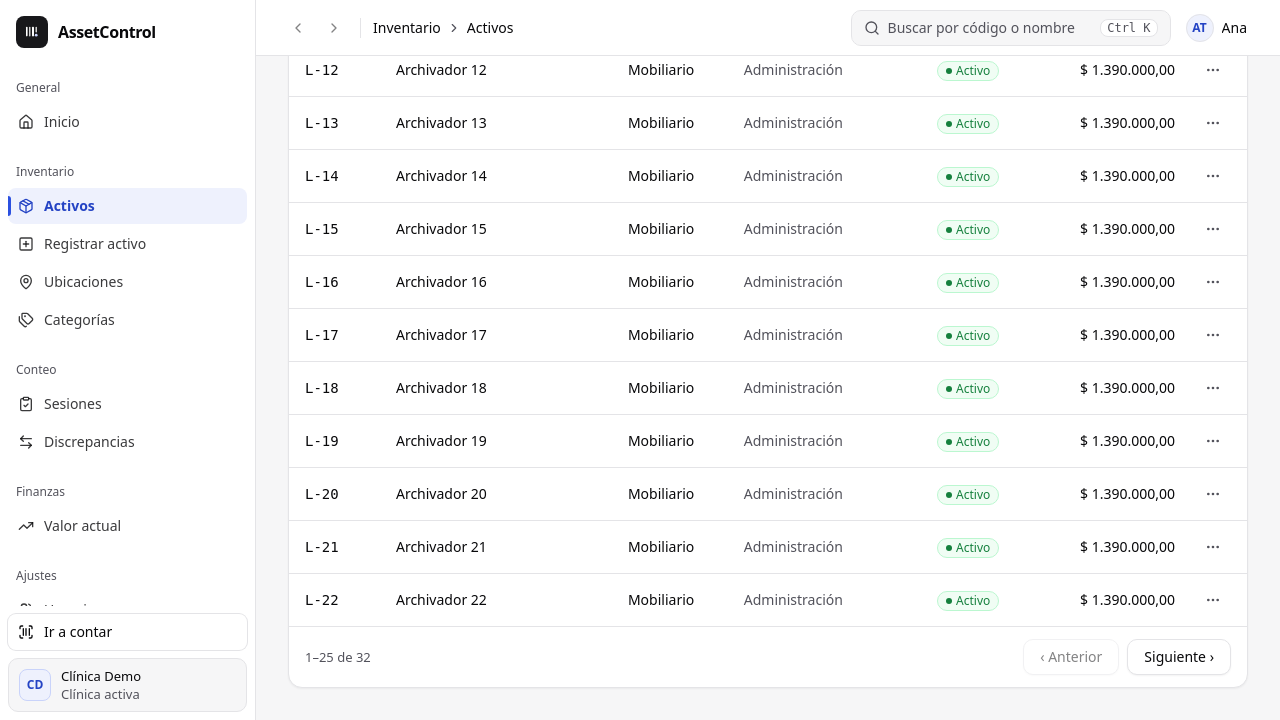
/admin/activos › pagina de 25 en 25
This screenshot has width=1280, height=720.
(page scrolled)
Expected: the text "1–25 de 32" is shown, [305,648,371,666]
Click the button "Siguiente ›".
click(1179, 656)  # box [1127,638,1231,674]
(page scrolled)
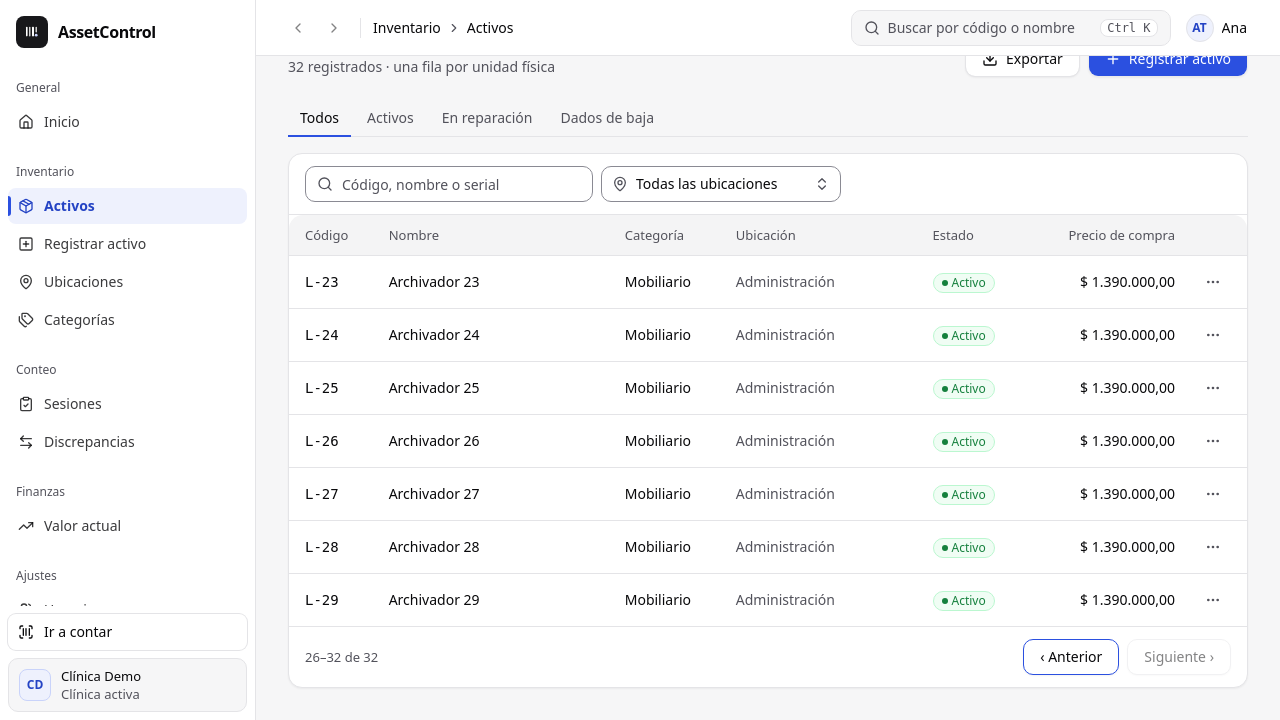
Expected: the text "26–32 de 32" is shown, [305,648,378,666]
Expected: the button "Siguiente ›" is disabled, [1127,638,1231,674]
